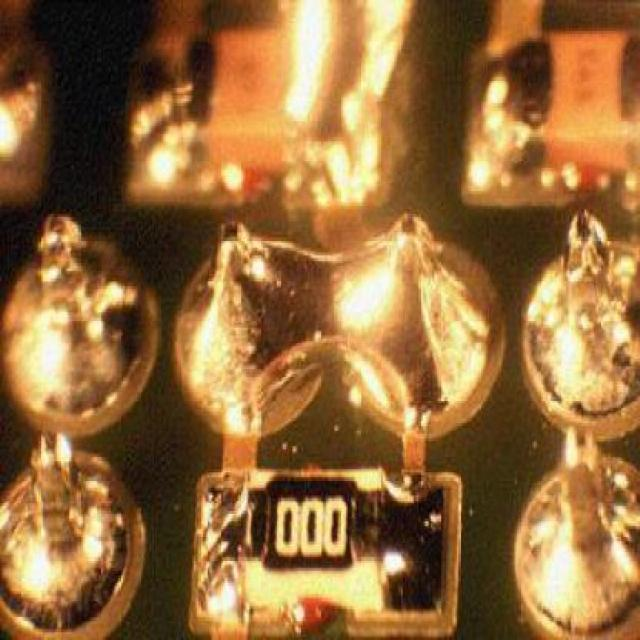Soldering shorted: (173, 201, 493, 434)
